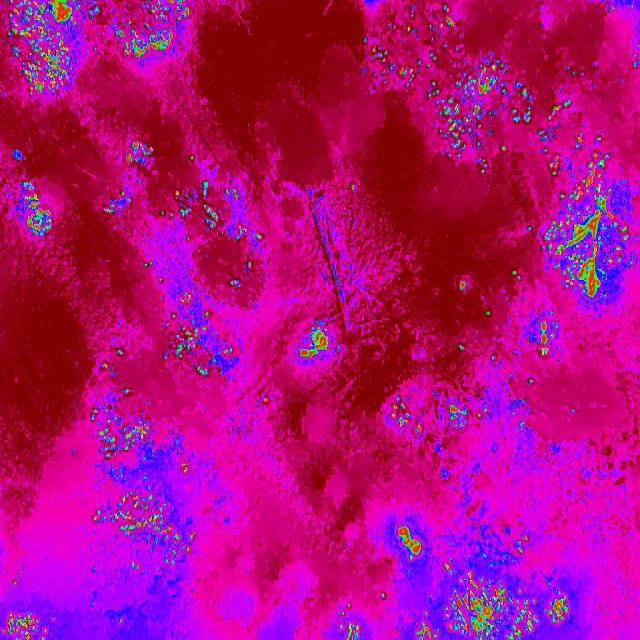fire: (354, 4, 574, 174), (85, 343, 206, 579), (92, 130, 274, 262), (530, 110, 640, 312), (332, 560, 571, 640), (154, 274, 249, 384), (2, 0, 101, 104), (107, 0, 202, 72), (14, 165, 58, 253), (454, 310, 502, 370), (294, 318, 336, 370), (386, 524, 430, 568), (534, 305, 564, 367), (1, 609, 60, 640), (442, 400, 478, 440), (390, 394, 416, 436), (454, 266, 472, 298), (503, 267, 526, 287)
